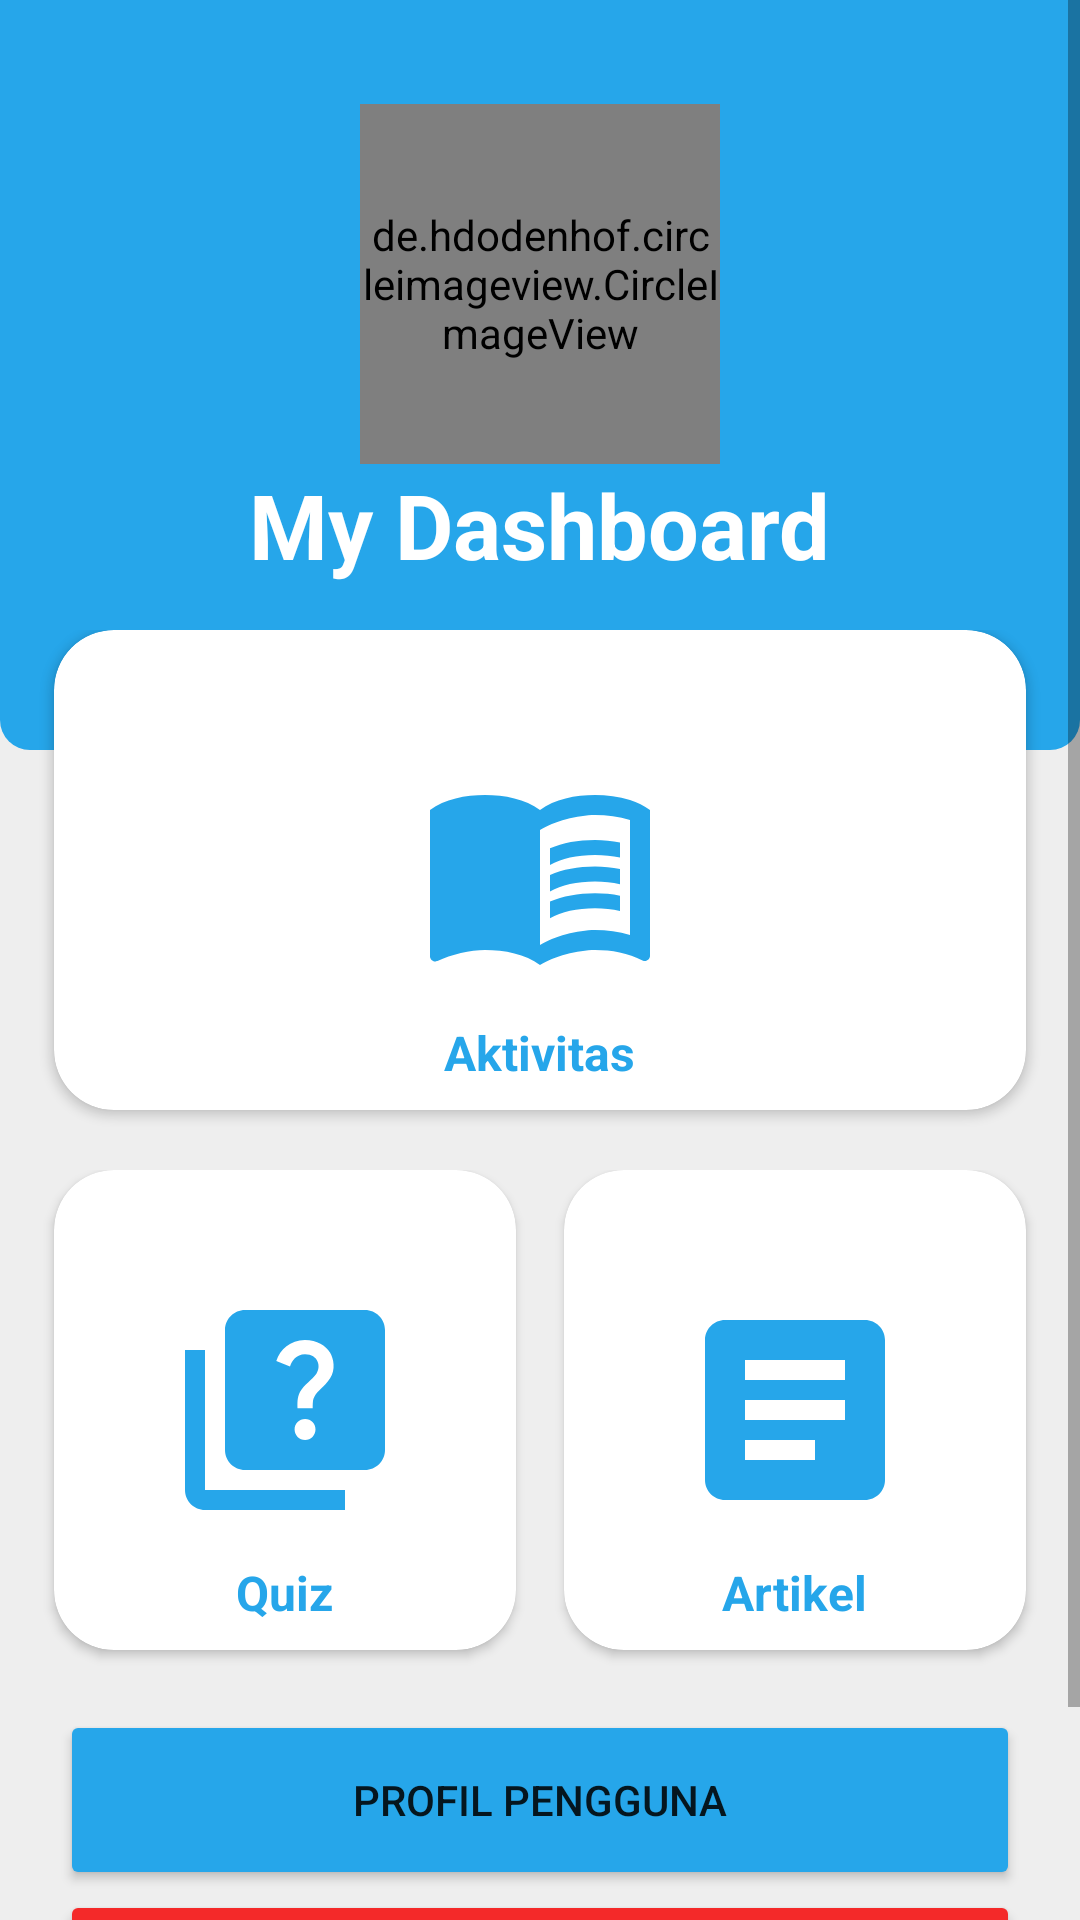

Icons on this 1080x1920 Android screen, each with its box as {"x1": x1, "y1": y1, "x2": x2, "y2": y2}:
article: {"x1": 705, "y1": 1320, "x2": 885, "y2": 1500}
